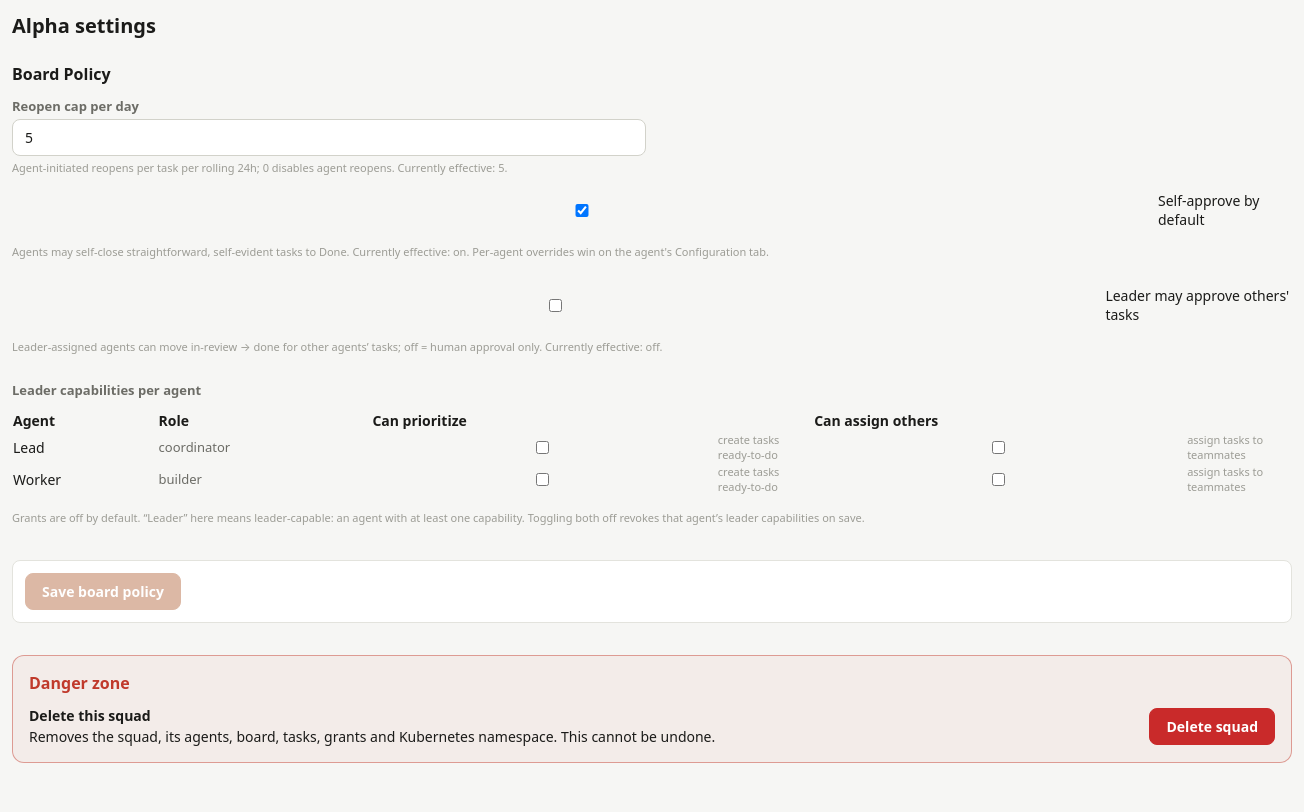
Test: SquadSettingsPage leader grants (S-297) › toggling a grant marks the form dirty and enables save
Check: the button "Save board policy" is disabled, box [25,573,181,610]
Click the checkbox named "Worker can assign others": (998, 479) [818,472,1178,486]
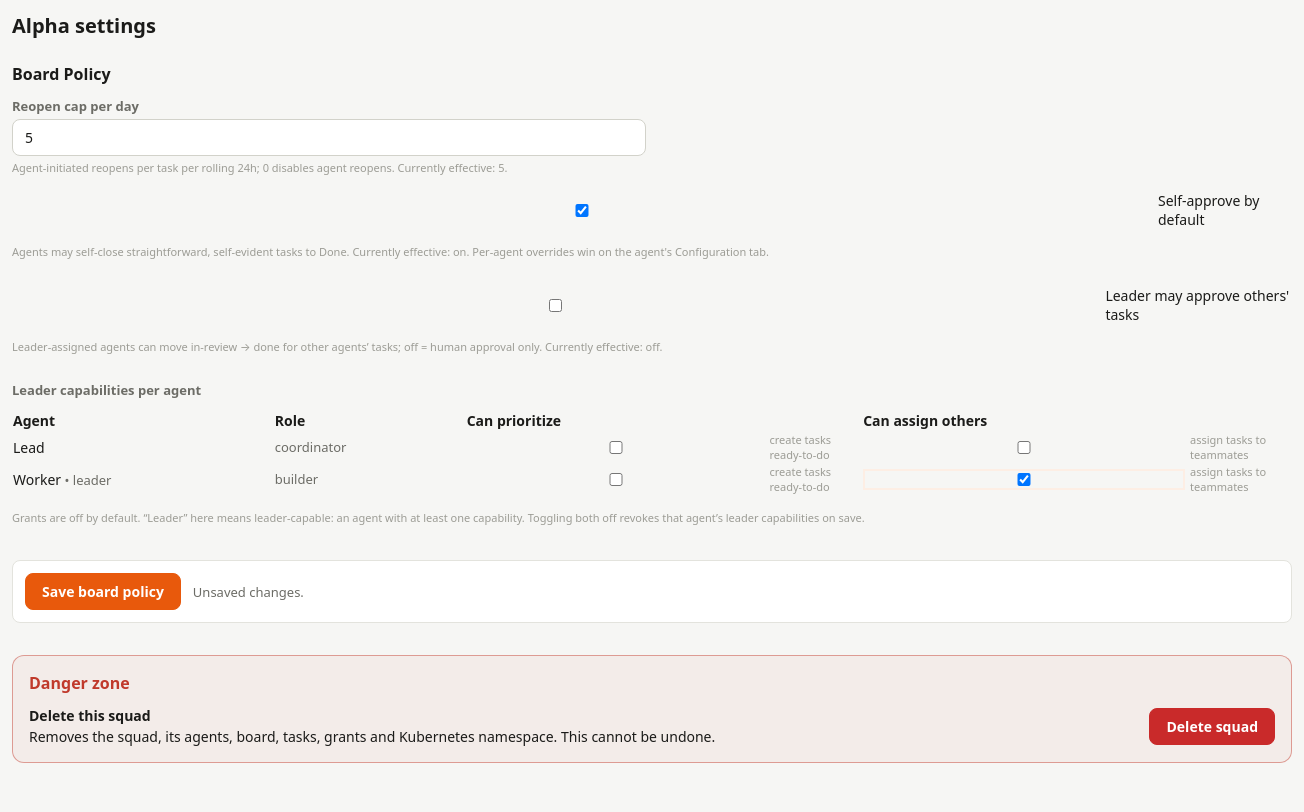
Check: the button "Save board policy" is enabled, box [25,573,181,610]
Check: the text "Unsaved changes." is shown, box [193,582,304,600]
